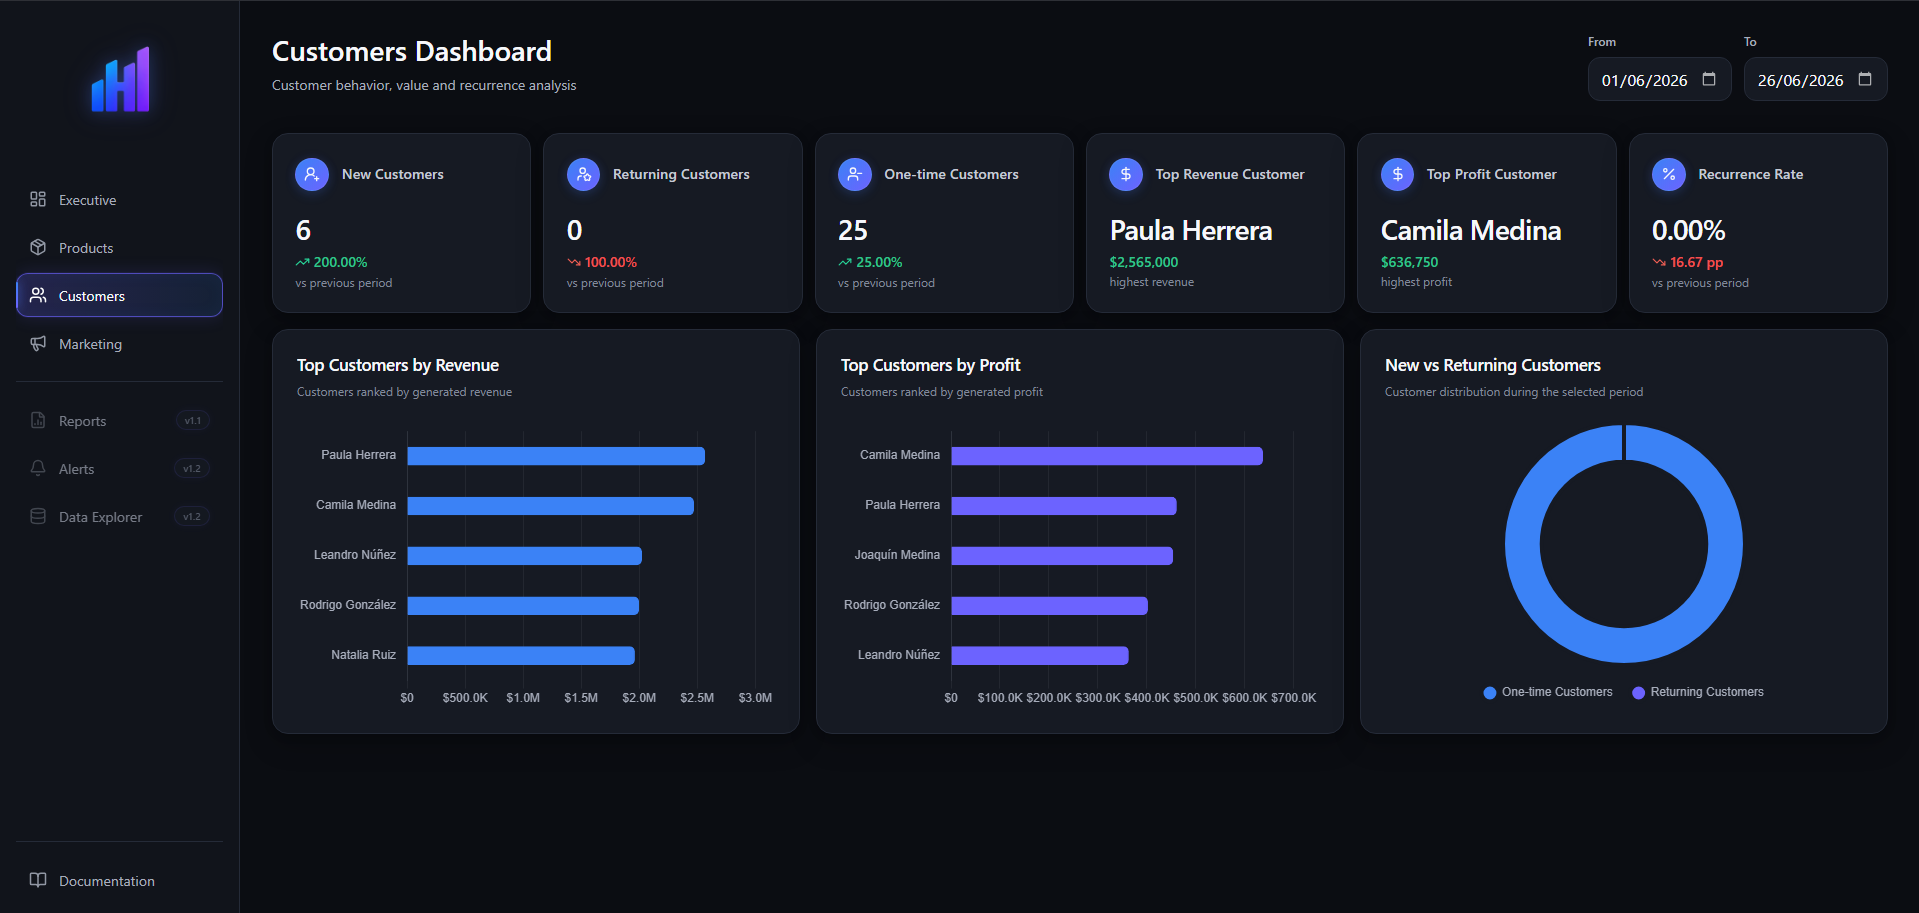

What the dashboard file says about the page in this screenshot:
{"tool":"powerbi","page":{"name":"Dashboard Clientes","canvas":[1280,720],"ordinal":2},"visuals":[{"type":"textbox","box":[18,0,439,62],"z":0},{"type":"textbox","box":[18,55,303,44],"z":1000},{"type":"slicer","fields":{"Values":["Calendario.Date"]},"box":[1028,10,238,89],"z":2000},{"type":"cardVisual","title":"Nuevos","fields":{"Data":["_Medidas.Clientes Nuevos"]},"box":[18,116,190,125],"z":3000},{"type":"cardVisual","title":"Tasa recurrencia","fields":{"Data":["_Medidas.Tasa de Recurrencia"]},"box":[1076,116,190,125],"z":4000},{"type":"cardVisual","title":"Recurrentes","fields":{"Data":["_Medidas.Clientes Recurrentes"]},"box":[229.6,116,190,125],"z":5000},{"type":"cardVisual","title":"Compra única","fields":{"Data":["_Medidas.Clientes Compra Única"]},"box":[441.2,116,190,125],"z":6000},{"type":"cardVisual","title":"Revenue","fields":{"Data":["_Medidas.Revenue por Cliente"]},"box":[652.8,116,190,125],"z":7000},{"type":"cardVisual","title":"Profit","fields":{"Data":["_Medidas.Profit por Cliente"]},"box":[864.4,116,190,125],"z":8000},{"type":"barChart","title":"Revenue por cliente","fields":{"Category":["Cliente.Nombre Completo"],"Y":["_Medidas.Revenue"]},"box":[18,287,398,343],"z":9000},{"type":"barChart","title":"Profit cliente","fields":{"Category":["Cliente.Nombre Completo"],"Y":["_Medidas.Profit"]},"box":[442,287,398,343],"z":10000},{"type":"pieChart","title":"Clientes de compra única vs recurrentes","fields":{"Y":["_Medidas.Clientes Compra Única","_Medidas.Clientes Recurrentes"]},"box":[868,287,398,343],"z":11000}]}

Visuals, with their boxes on the page's 1280x720 design canvas (x1, y1, x2, y2). These are canvas units, not pixel positions in the 1919x913 screenshot, which may show the page scaled, cropped or inside an application window:
textbox: 18:0:457:62
textbox: 18:55:321:99
slicer - Calendario.Date: 1028:10:1266:99
"Nuevos" cardVisual: 18:116:208:241
"Tasa recurrencia" cardVisual: 1076:116:1266:241
"Recurrentes" cardVisual: 230:116:420:241
"Compra única" cardVisual: 441:116:631:241
"Revenue" cardVisual: 653:116:843:241
"Profit" cardVisual: 864:116:1054:241
"Revenue por cliente" barChart: 18:287:416:630
"Profit cliente" barChart: 442:287:840:630
"Clientes de compra única vs recurrentes" pieChart: 868:287:1266:630
